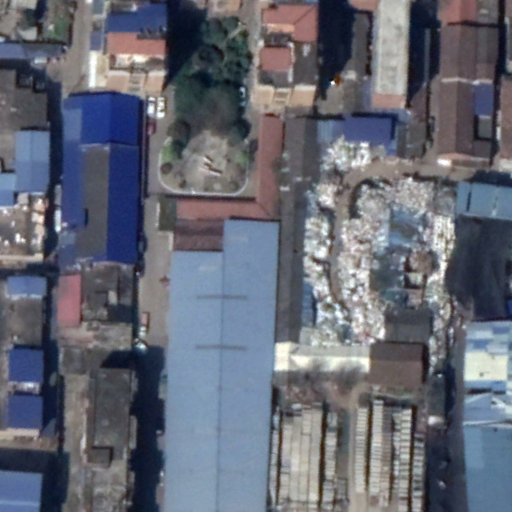msw: (303, 136, 460, 353)
